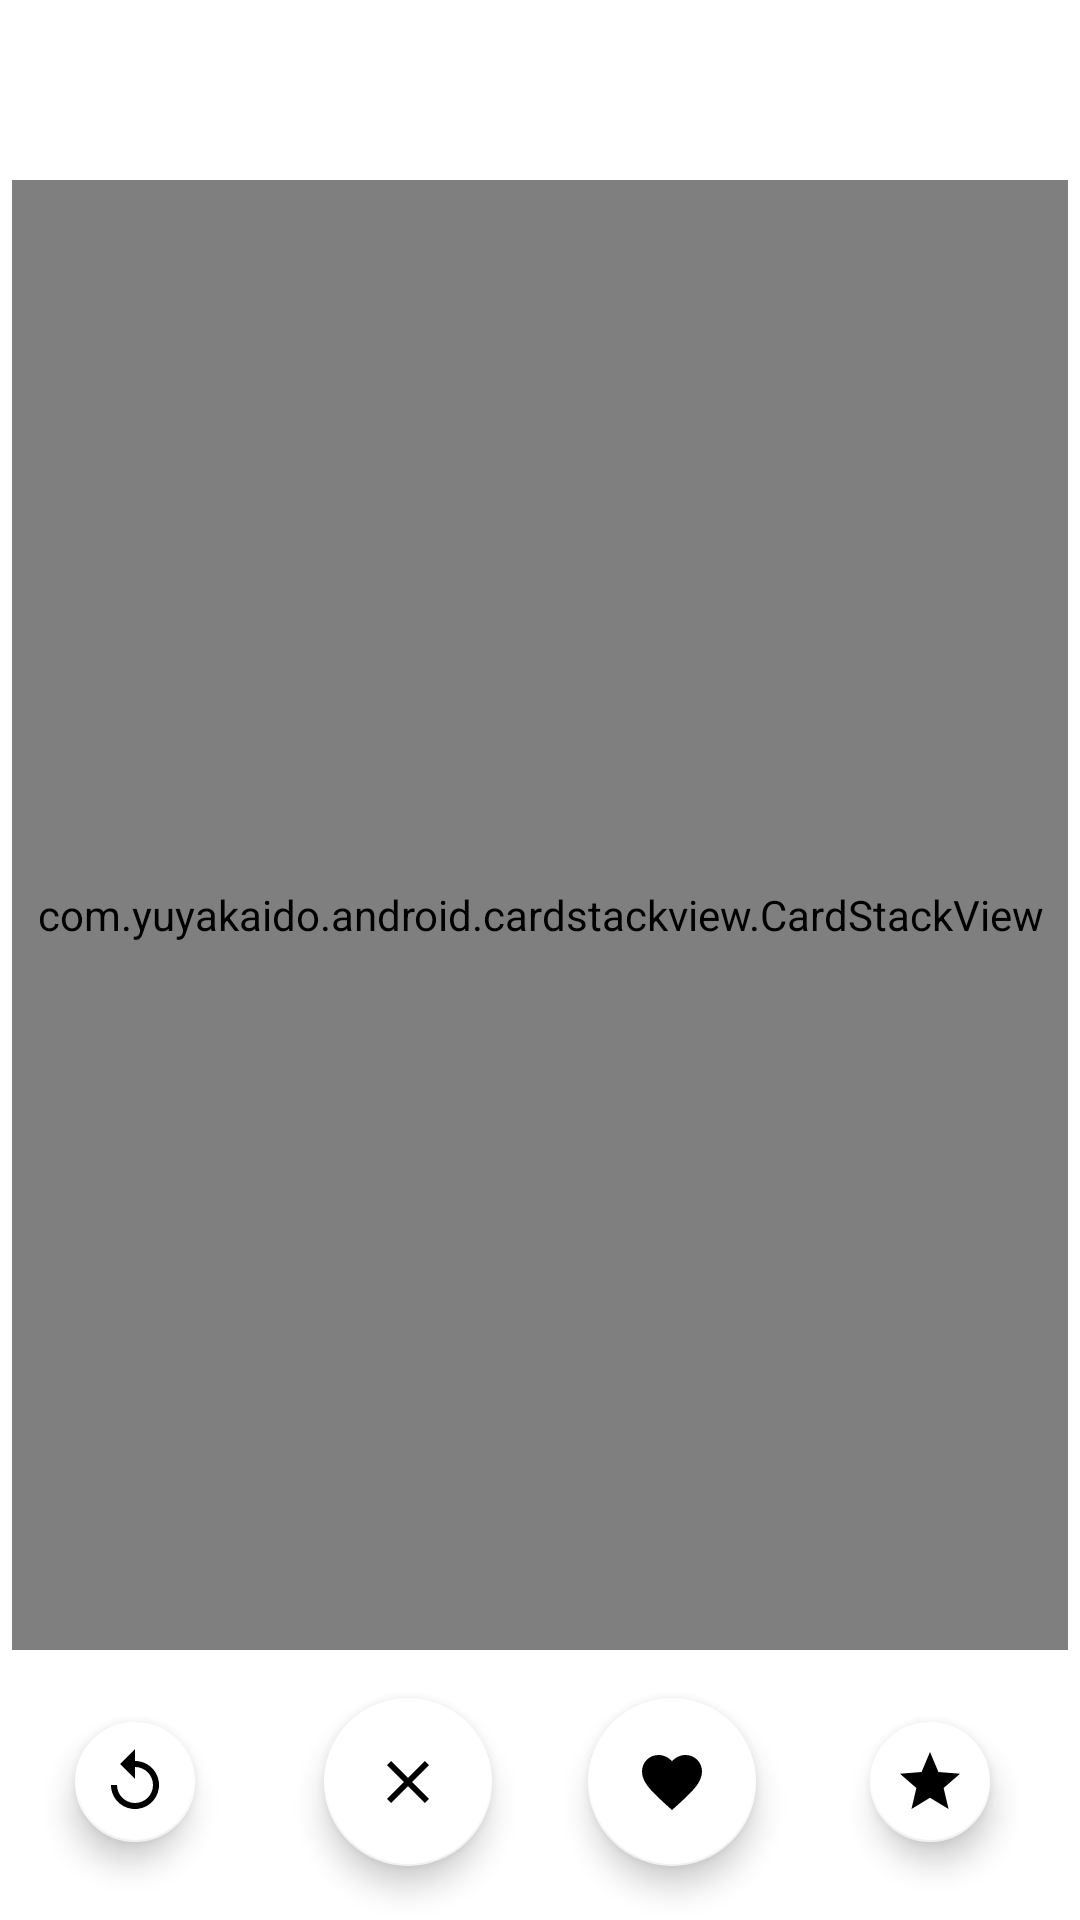

Icons on this 1080*1920 Android screen, each with its box as Rect(x1, y1, x2, y2):
close: Rect(324, 1761, 490, 1866)
favorite: Rect(590, 1755, 702, 1810)
replay: Rect(74, 1749, 189, 1854)
star: Rect(875, 1752, 992, 1854)
